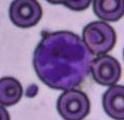E: (33, 30, 93, 89)
